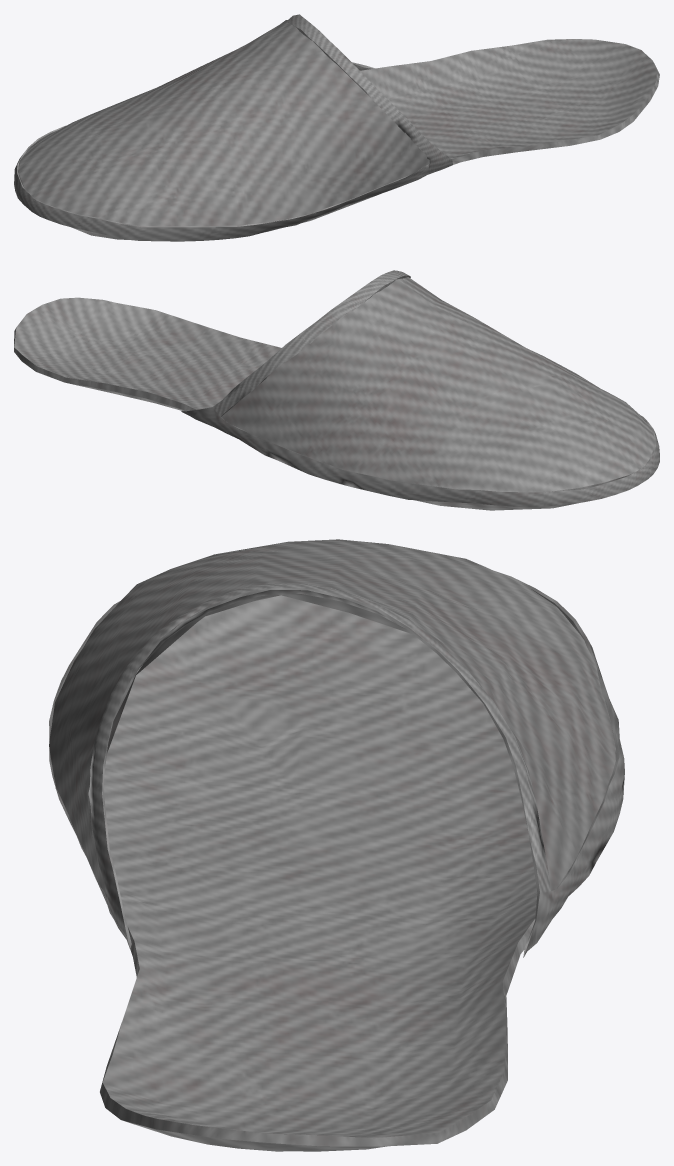
File: SM_Shoes_A2.fbx
3 renders of one model, top to bottom at view 1: azimuth 30°, elevation 25°; view 2: azimuth 150°, elevation 25°; view 3: azimuth 270°, elevation 25°, orthographic. The views are drawn at different scales.
Visible parts, largest first — view 1: SM_Shoes_A2; view 2: SM_Shoes_A2; view 3: SM_Shoes_A2.
Boxes of the visible parts, x1,y1,x2,y2 form: SM_Shoes_A2: (14, 14, 659, 241); SM_Shoes_A2: (14, 270, 659, 510); SM_Shoes_A2: (49, 539, 624, 1151).
Size of the model in its own units: 27.02 by 11.02 by 6.32.
Materials: 1 (1 with a texture image).
